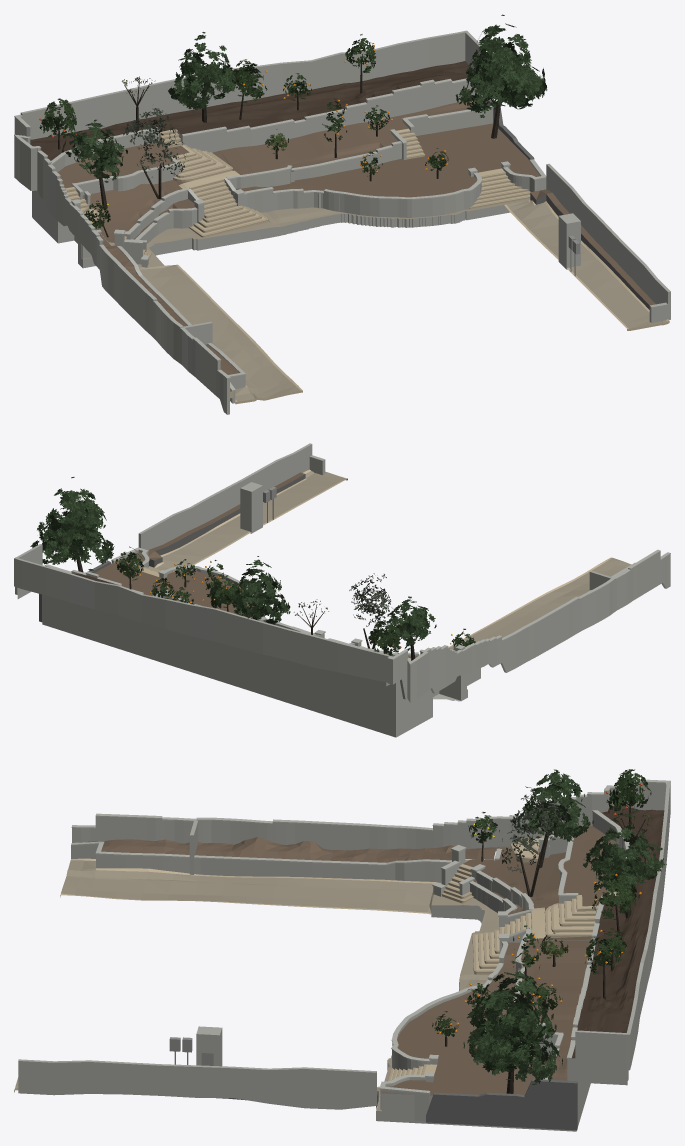
File: reconstruction-5db354aa61c0.glb
3 renders of one model, top to bottom at view 1: azimuth 30°, elevation 25°; view 2: azimuth 150°, elevation 25°; view 3: azimuth 270°, elevation 25°, orthographic. The views are drawn at different scales.
Visible parts, largest first — view 1: ground-terraces, wall-rear-boundary, wall-west-boundary-rear, ground-side-west, planting-tree-14, wall-we, wall-wa, ground-side-east, wall-east-side-boundary, wall-wb, planting-tree-03, planting-tree-02 (+19 smaller); view 2: ground-terraces, wall-rear-boundary, wall-west-boundary-rear, wall-east-side-boundary, planting-tree-14, ground-side-east, ground-side-west, planting-tree-03, planting-tree-02, planter-fill-east-side, coping-west-boundary-rear, planting-tree-01 (+4 smaller); view 3: ground-terraces, ground-side-west, wall-east-side-boundary, wall-west-boundary-rear, planting-tree-14, wall-west-side-retaining, slot-filler-east, planting-tree-03, planting-tree-02, wall-rear-boundary, wall-rear-boundary-return-east, planting-tree-01 (+17 smaller).
Boxes of the visible parts, bbox=[...] form: ground-terraces: bbox=[30, 61, 539, 268]; wall-rear-boundary: bbox=[20, 30, 467, 139]; wall-west-boundary-rear: bbox=[14, 117, 229, 414]; ground-side-west: bbox=[99, 233, 302, 404]; planting-tree-14: bbox=[455, 14, 547, 138]; wall-we: bbox=[182, 81, 482, 152]; wall-wa: bbox=[82, 162, 546, 258]; ground-side-east: bbox=[504, 200, 669, 330]; wall-east-side-boundary: bbox=[546, 163, 670, 322]; wall-wb: bbox=[130, 108, 493, 239]; planting-tree-03: bbox=[168, 32, 237, 122]; planting-tree-02: bbox=[62, 119, 127, 208]; ground-terraces: bbox=[17, 552, 480, 737]; wall-rear-boundary: bbox=[14, 557, 389, 682]; wall-west-boundary-rear: bbox=[387, 551, 670, 702]; wall-east-side-boundary: bbox=[138, 443, 325, 550]; planting-tree-14: bbox=[30, 477, 114, 572]; ground-side-east: bbox=[154, 469, 347, 570]; ground-side-west: bbox=[450, 557, 631, 649]; planting-tree-03: bbox=[230, 556, 290, 624]; planting-tree-02: bbox=[383, 596, 436, 660]; planter-fill-east-side: bbox=[148, 472, 305, 567]; coping-west-boundary-rear: bbox=[387, 549, 670, 664]; planting-tree-01: bbox=[349, 573, 399, 648]; ground-terraces: bbox=[376, 804, 664, 1131]; ground-side-west: bbox=[60, 837, 495, 914]; wall-east-side-boundary: bbox=[18, 1059, 376, 1109]; wall-west-boundary-rear: bbox=[72, 782, 670, 851]; planting-tree-14: bbox=[463, 961, 562, 1093]; wall-west-side-retaining: bbox=[71, 844, 448, 882]; slot-filler-east: bbox=[426, 1079, 577, 1130]; planting-tree-03: bbox=[583, 809, 666, 917]; planting-tree-02: bbox=[516, 769, 593, 868]; wall-rear-boundary: bbox=[626, 781, 670, 1070]; wall-rear-boundary-return-east: bbox=[575, 1030, 628, 1080]; planting-tree-01: bbox=[501, 786, 567, 896].
Size of the model in its own units: 36.25 by 10.62 by 35.19.
Materials: 18 (6 with a texture image).
